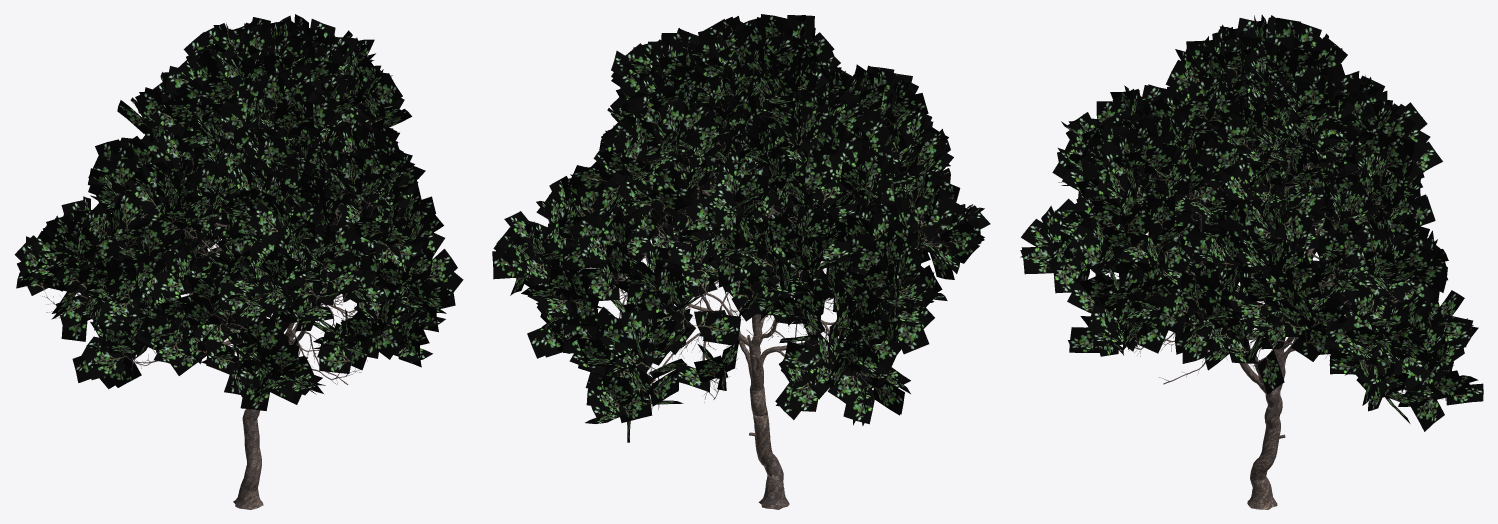
Rendered from arbol.obj.
3 views of the same model, side by side, from view 1: azimuth 30°, elevation 25°; view 2: azimuth 150°, elevation 25°; view 3: azimuth 270°, elevation 25° (orthographic). The views are drawn at different scales.
Parts seen in each view (by area): view 1: Eucalyptus_Diffuse_1699_Leaves_001, Eucalyptus_Tree_002, Eucalyptus_Tree_001, Eucalyptus_Tree_003; view 2: Eucalyptus_Diffuse_1699_Leaves_001, Eucalyptus_Tree_002, Eucalyptus_Tree_003, Eucalyptus_Tree_001; view 3: Eucalyptus_Diffuse_1699_Leaves_001, Eucalyptus_Tree_002, Eucalyptus_Tree_001.
Boxes of the visible parts, x1,y1,x2,y2 form: Eucalyptus_Diffuse_1699_Leaves_001: [14, 14, 463, 411]; Eucalyptus_Tree_002: [141, 202, 410, 509]; Eucalyptus_Tree_001: [177, 70, 410, 384]; Eucalyptus_Tree_003: [42, 194, 235, 368]; Eucalyptus_Diffuse_1699_Leaves_001: [492, 14, 990, 442]; Eucalyptus_Tree_002: [572, 117, 906, 509]; Eucalyptus_Tree_003: [532, 145, 896, 387]; Eucalyptus_Tree_001: [613, 71, 946, 303]; Eucalyptus_Diffuse_1699_Leaves_001: [1020, 15, 1483, 431]; Eucalyptus_Tree_002: [1137, 176, 1454, 509]; Eucalyptus_Tree_001: [1091, 84, 1391, 359].
Size of the model in its own units: 75.11 by 85.89 by 74.31.
Materials: 2 (2 with a texture image).
